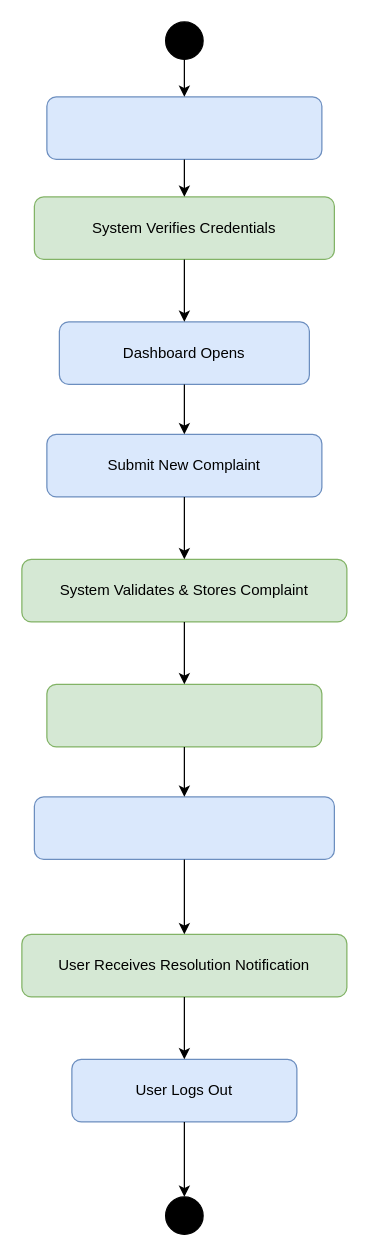
This 369x1256 diagram has some shape labels left out. The shapes that lost their labels are listed below. From the top down, each one's centre as x and y in pixels, then its label:
At (x=184, y=127): "User Logs In / Registers".
At (x=184, y=715): "System Notifies Admin".
At (x=183, y=827): "User Views Complaint Status".
